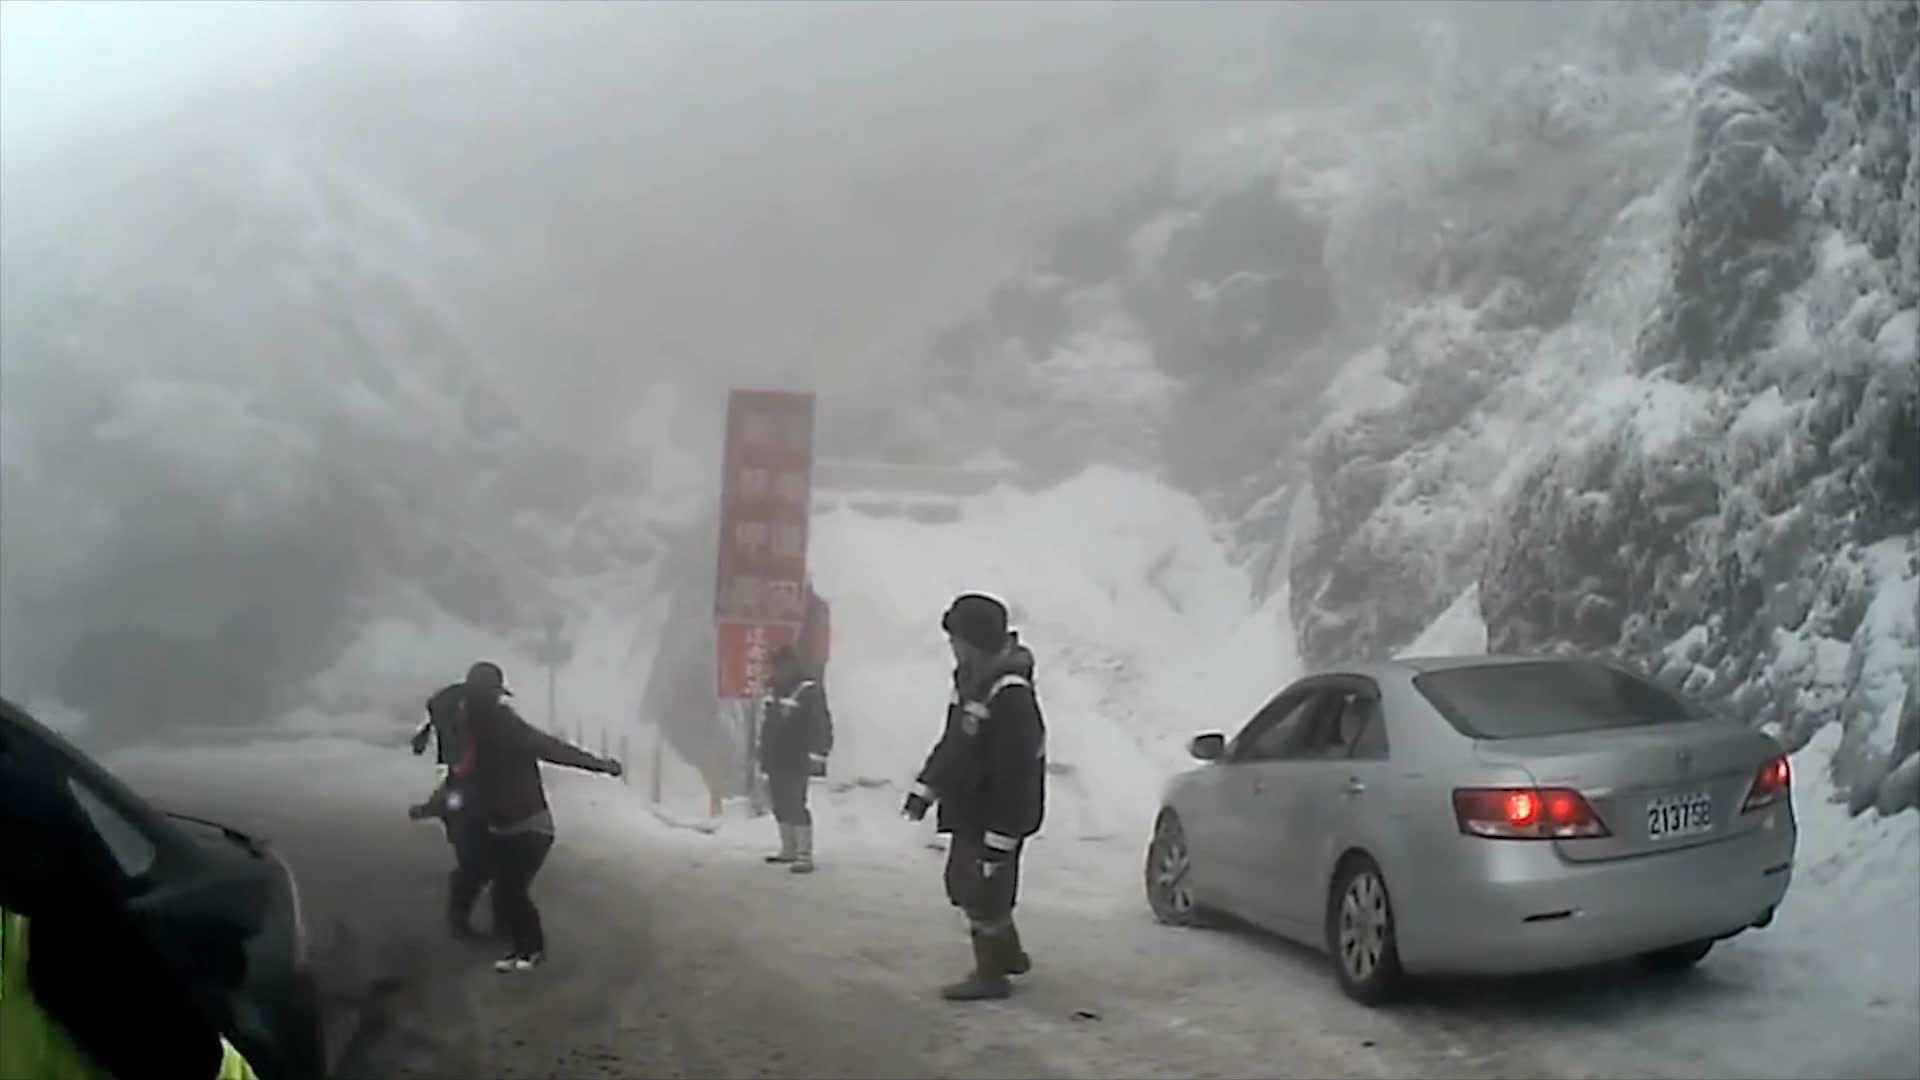pedestrian: (1, 714, 244, 1074), (898, 586, 1051, 1005), (410, 681, 619, 975), (759, 635, 836, 875), (774, 566, 836, 745)
vehicle: (1139, 650, 1796, 1003), (0, 699, 330, 1079)
